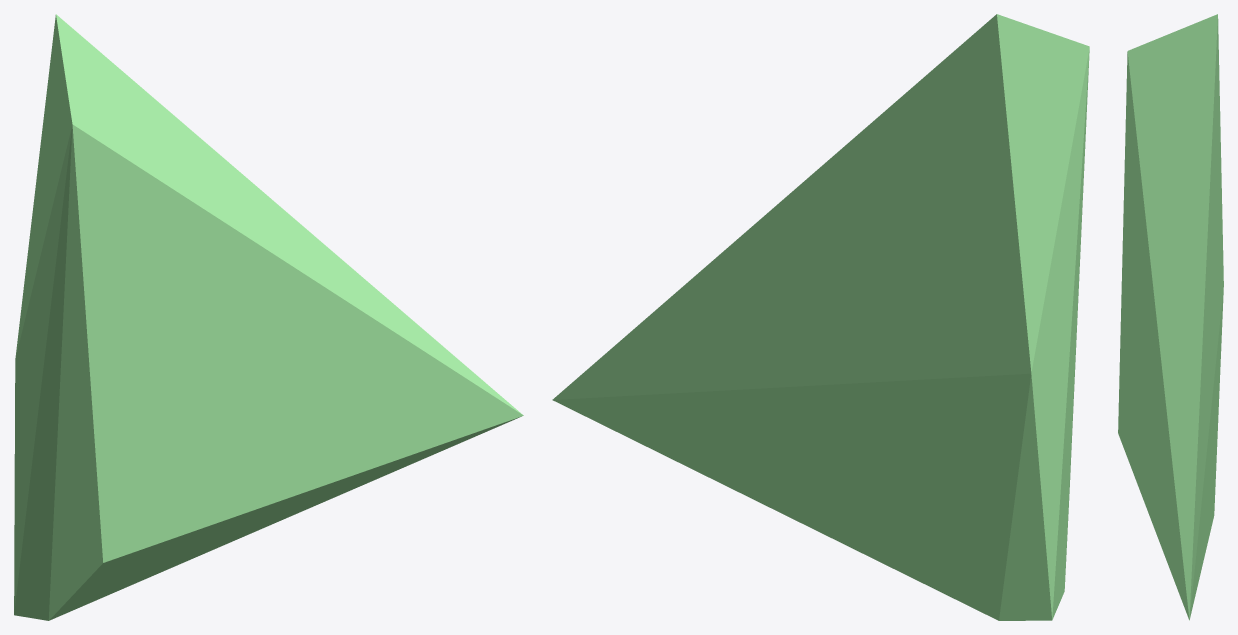
The model's file is linkhou_robot_base_coll_10.dae.
3 renders of one model, left to right at view 1: azimuth 30°, elevation 25°; view 2: azimuth 150°, elevation 25°; view 3: azimuth 270°, elevation 25°, orthographic. The views are drawn at different scales.
Parts seen in each view (by area): view 1: Node_00000209DB3AA2F0; view 2: Node_00000209DB3AA2F0; view 3: Node_00000209DB3AA2F0.
Boxes of the visible parts, <box> form: Node_00000209DB3AA2F0: <box>14,14,523,620</box>; Node_00000209DB3AA2F0: <box>552,14,1089,620</box>; Node_00000209DB3AA2F0: <box>1118,14,1223,620</box>.
Bounding box in the file's own units: 0.1454 × 0.1655 × 0.0317.
